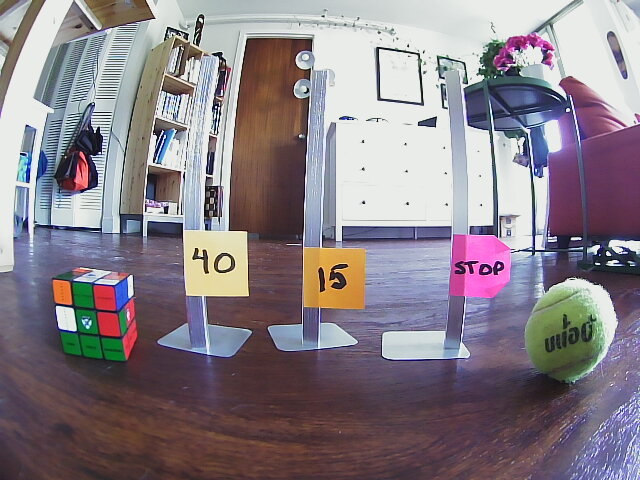15: (301, 248, 367, 311)
40: (184, 232, 247, 295)
ball: (525, 278, 619, 382)
cube: (52, 269, 137, 361)
stop: (453, 236, 506, 296)
